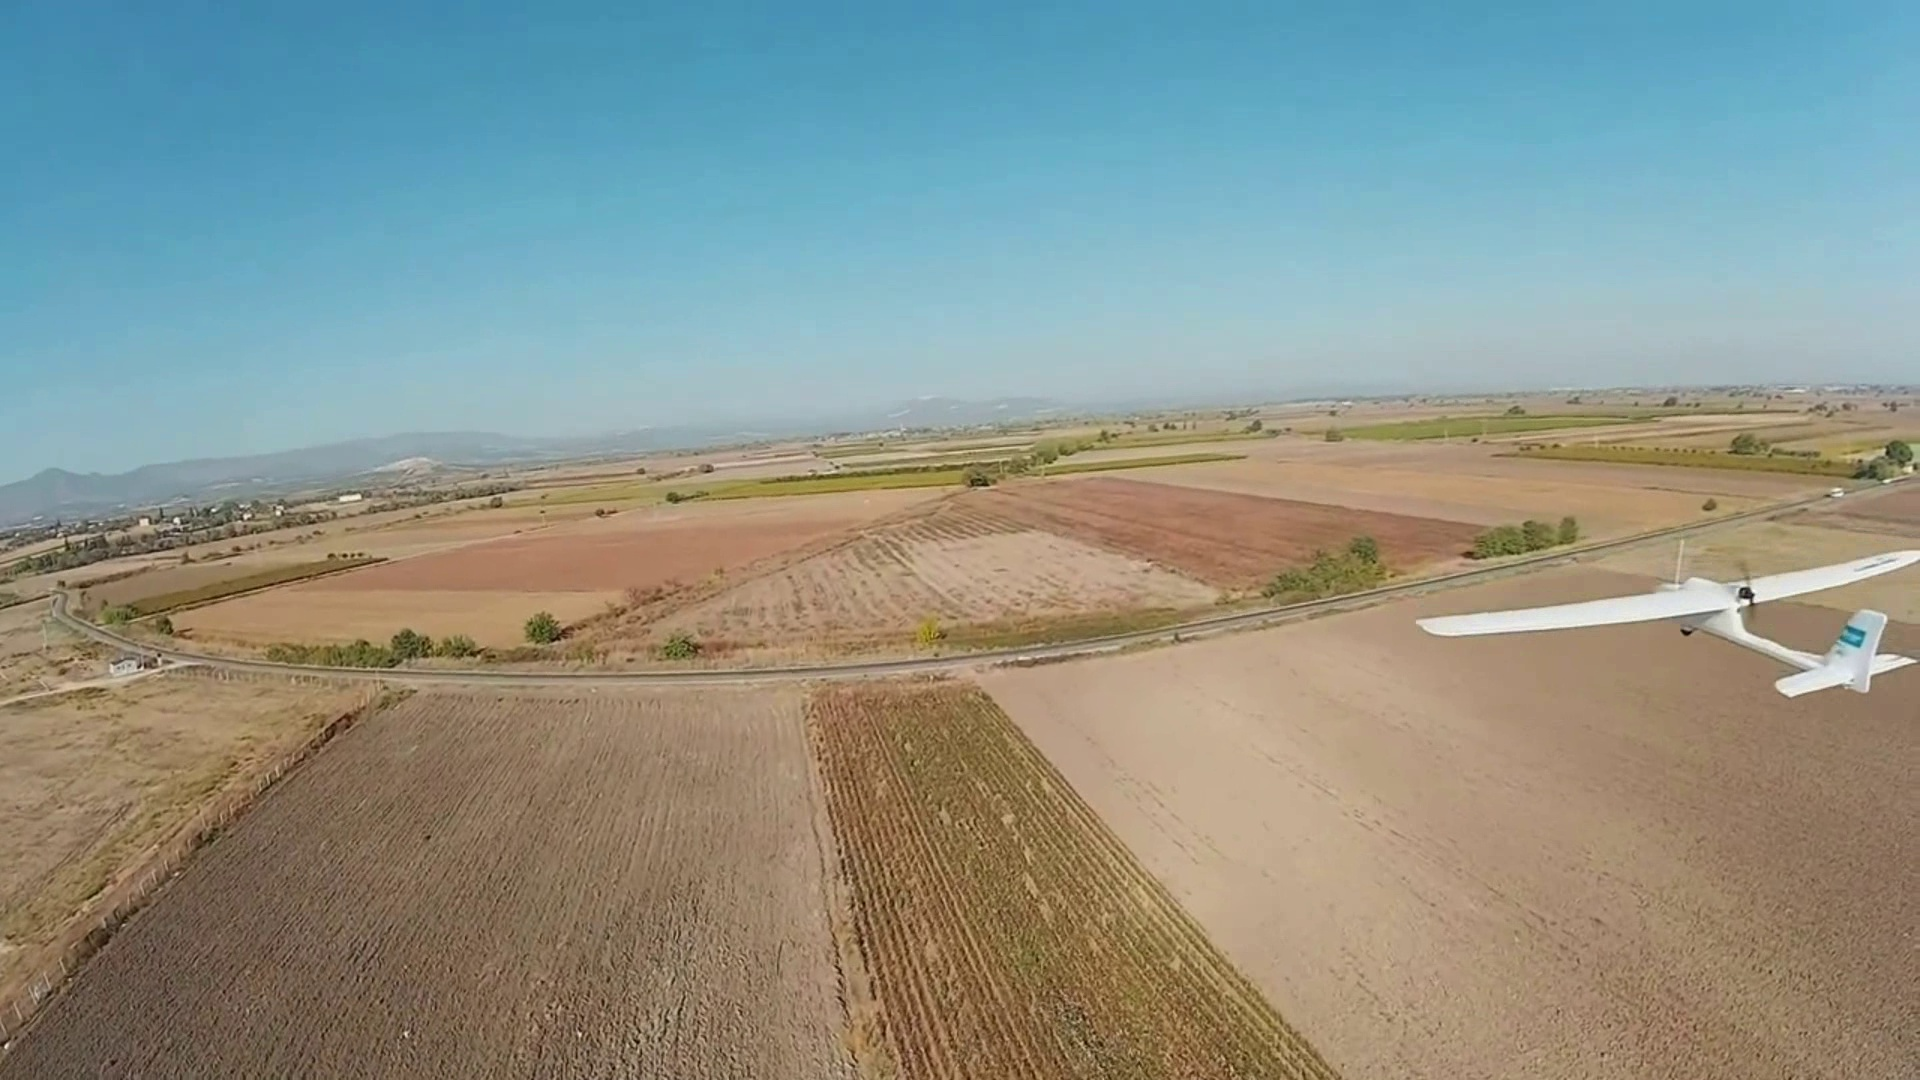airplane: (1418, 527, 1917, 699)
